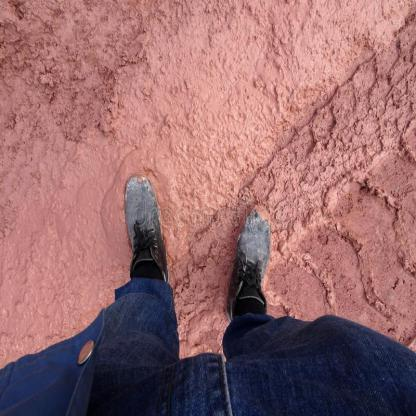bota: (224, 200, 278, 324), (122, 171, 170, 279)
